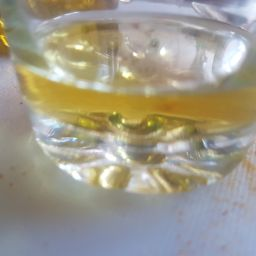Olive oil: (4, 24, 256, 132)
